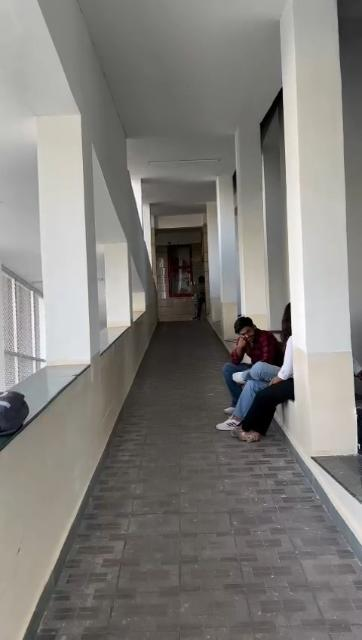floor: (40, 320, 362, 640)
moving-obj: (218, 306, 302, 460)
object: (4, 374, 32, 450)
wall: (1, 298, 157, 639), (288, 7, 348, 455), (46, 94, 90, 358), (232, 122, 274, 304), (212, 164, 234, 302), (108, 194, 128, 326), (144, 185, 216, 201)
